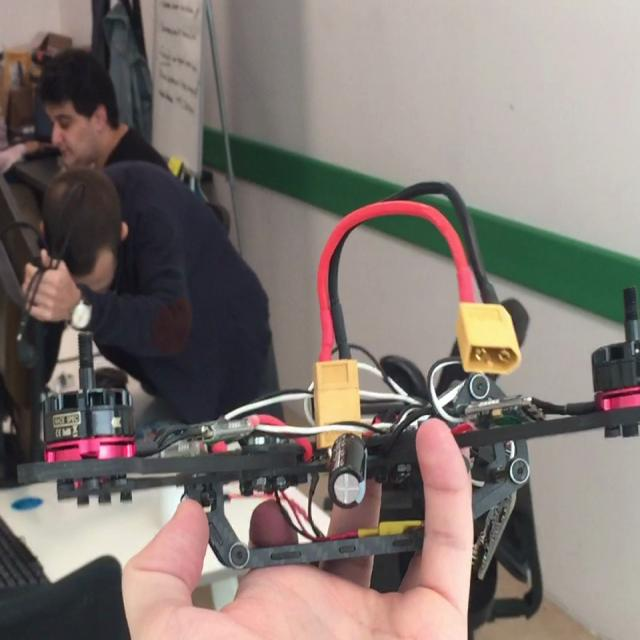drone: (0, 275, 640, 591)
